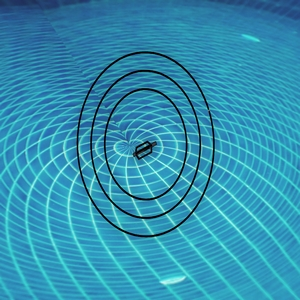circle: (72, 47, 225, 247)
